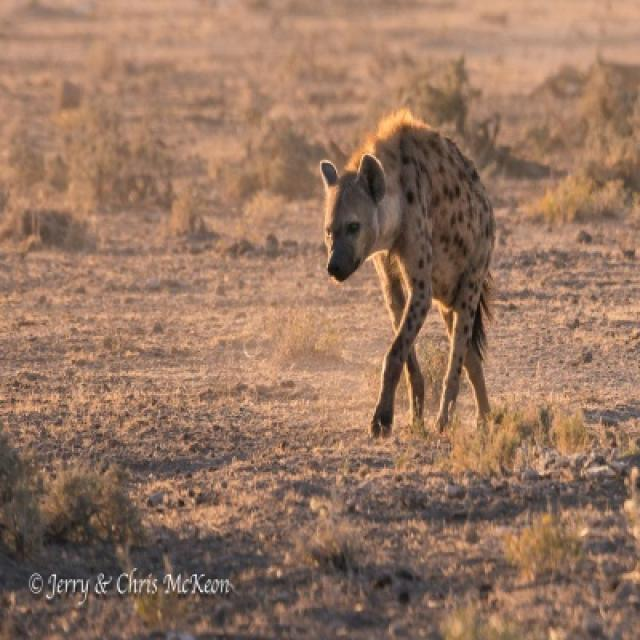hyena: (320, 109, 494, 438)
